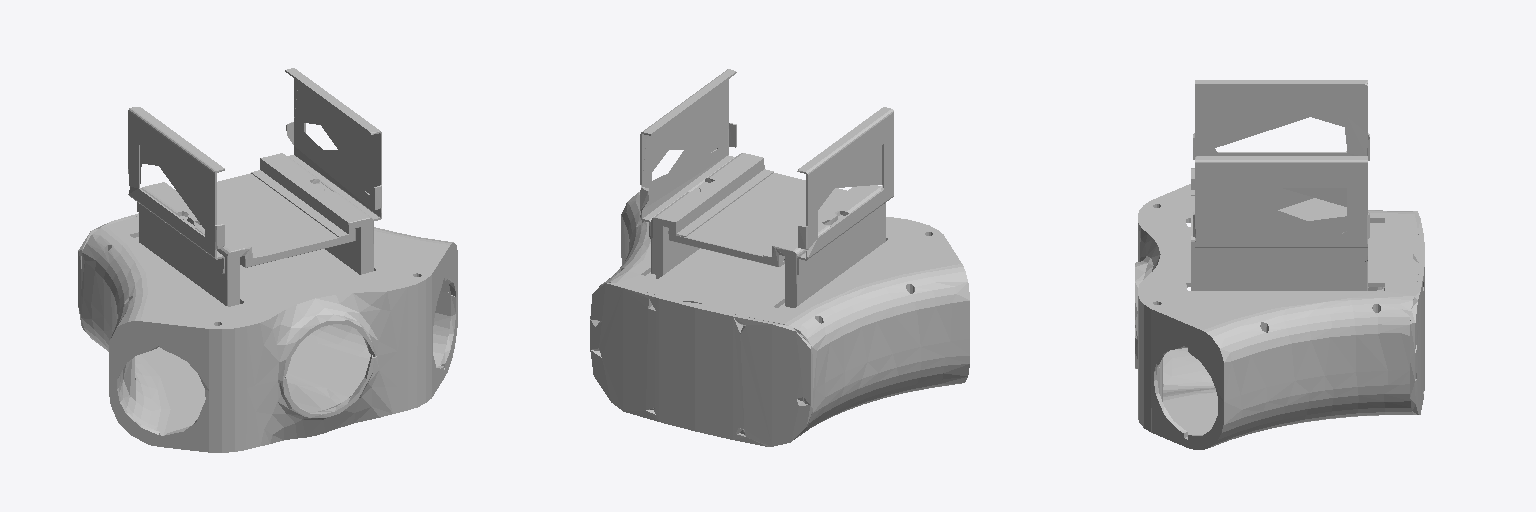
Rendered from dual_rm_75b_description_platform_base_link_visuals_platform_base_link_mesh.obj.
The picture shows the model from 3 angles: view 1: azimuth 30°, elevation 25°; view 2: azimuth 150°, elevation 25°; view 3: azimuth 270°, elevation 25°; orthographic projection.
Size of the model in its own units: 0.396 by 0.2948 by 0.2855.